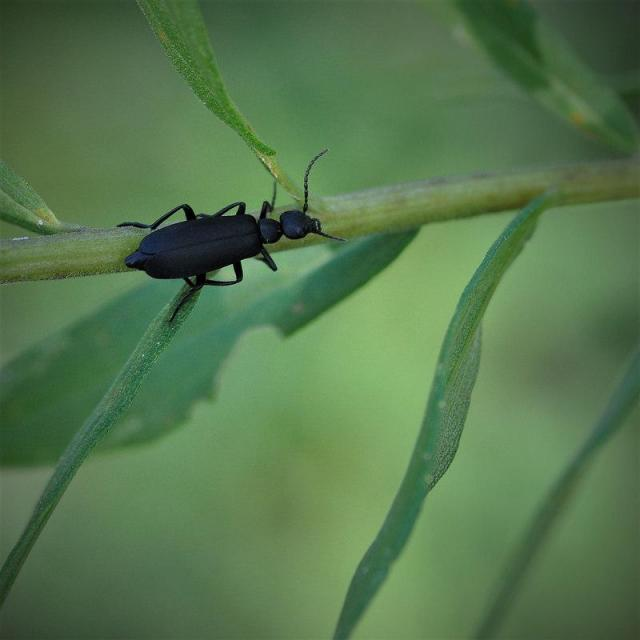BlisterBeetle-Adult-: (116, 140, 354, 324)
